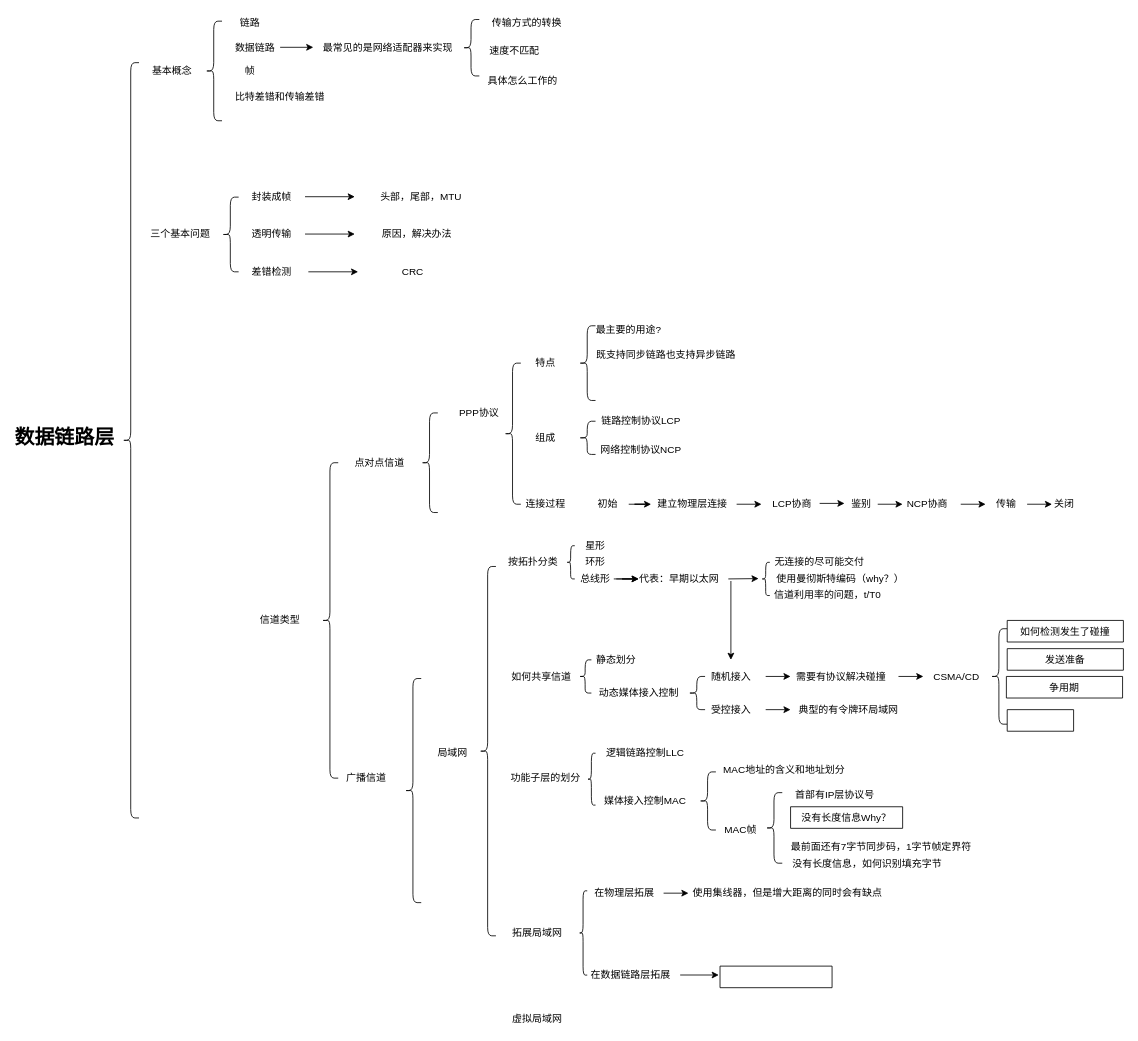
This 1138x1041 diagram has some shape labels left out. Each missing label, with the centre of its shape:
"交换机（网桥）" goes at point 775,976.
"退避算法" goes at point 1040,720.
